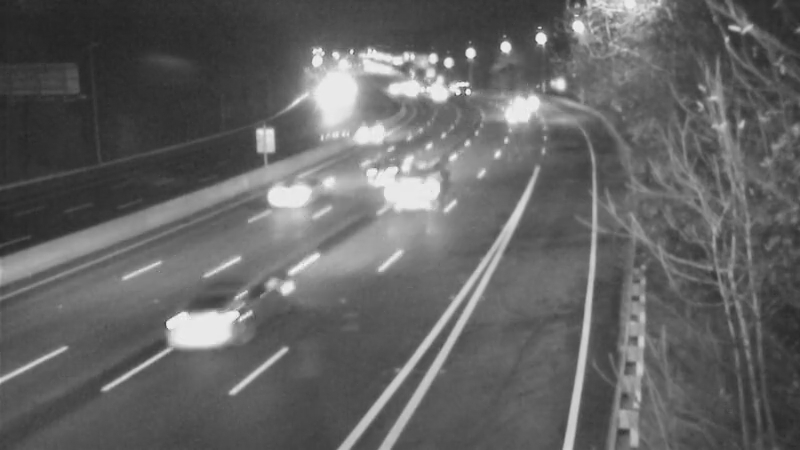vehicle: (145, 258, 255, 368), (346, 119, 426, 199), (371, 152, 451, 232), (254, 152, 334, 232), (503, 73, 553, 123), (490, 90, 540, 140), (356, 112, 406, 162)
